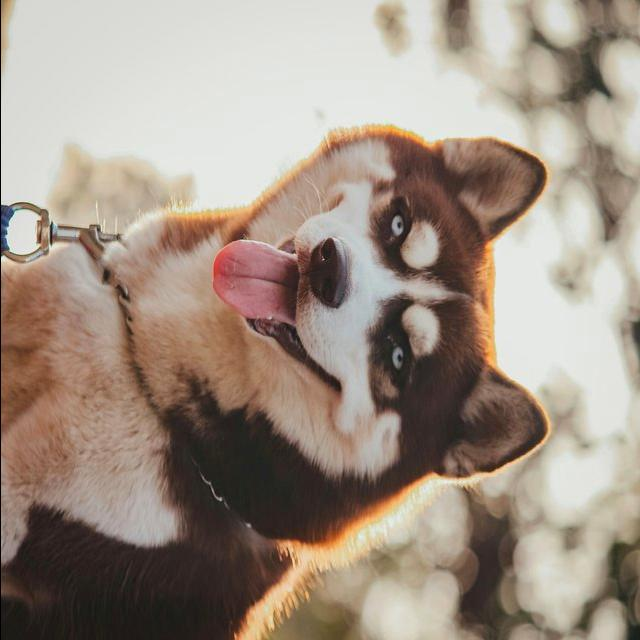husky: (2, 124, 552, 639)
